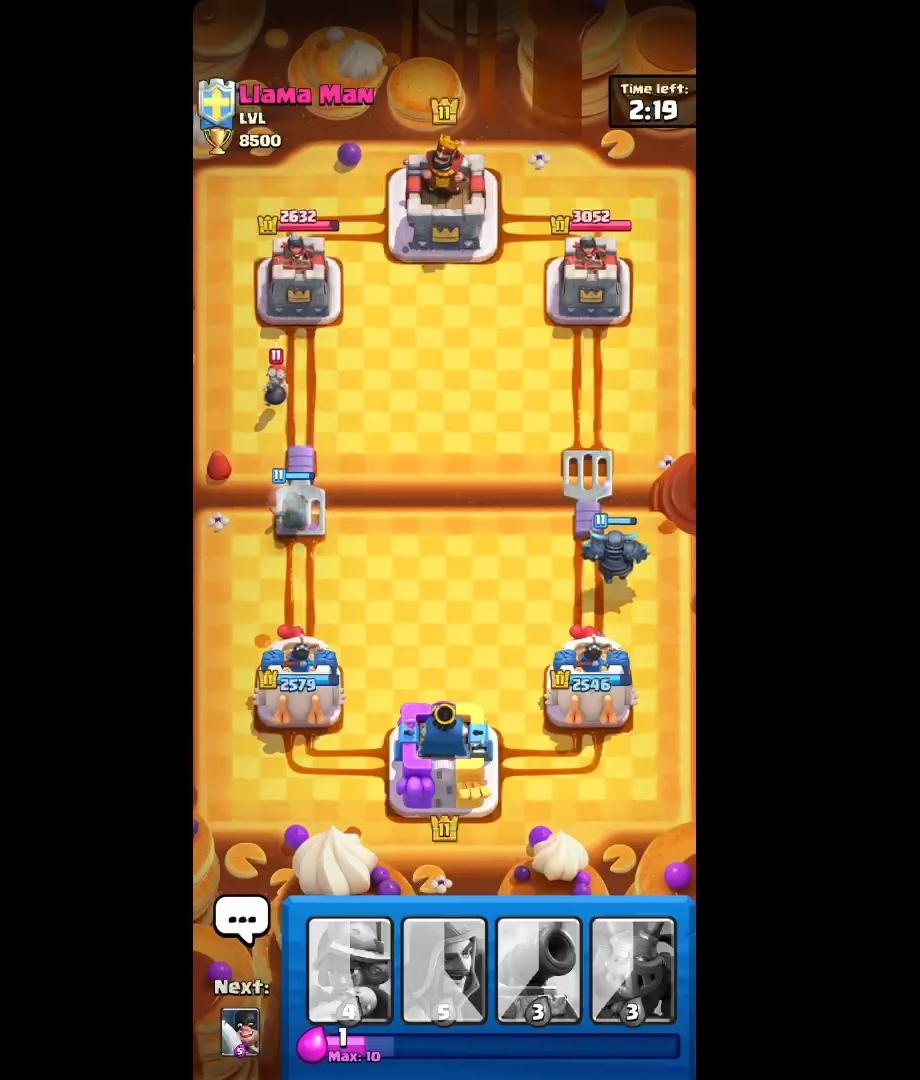Bomber: (253, 343, 300, 414)
